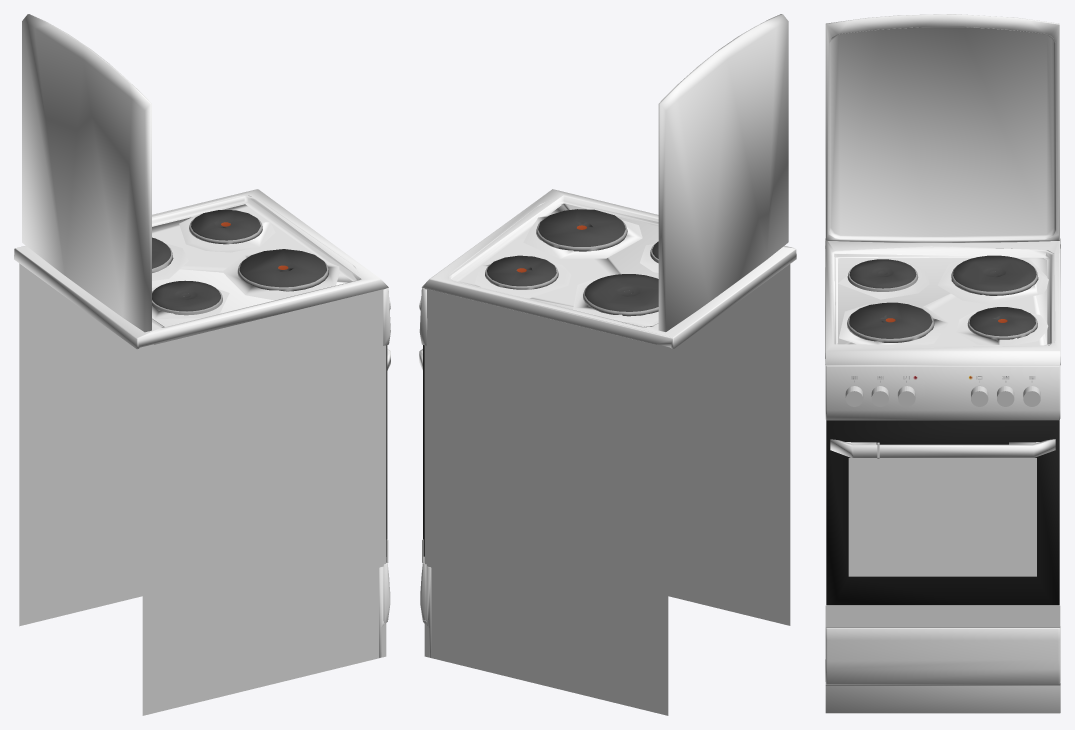
File: Hansa Integra FCEW 54120.FBX
3 renders of one model, left to right at view 1: azimuth 30°, elevation 25°; view 2: azimuth 150°, elevation 25°; view 3: azimuth 270°, elevation 25°, orthographic. The views are drawn at different scales.
Visible parts, largest first — view 1: Плоскость.001, Плоскость, Box039, Box019, Cone001, Cone009, Cone003; view 2: Плоскость, Плоскость.001, Box039, Box019, Cone010, Cone001, Cone003; view 3: Box039, Object007, Box019, Box026, Box025, Line054, Box028, Box037, Cone010, Cone001, Цилиндр, Cone009 (+2 smaller).
Part boxes in pixels (left/top/right/bottom): Плоскость.001: left=142, top=288, right=386, bottom=715; Плоскость: left=19, top=263, right=142, bottom=626; Box039: left=22, top=14, right=151, bottom=332; Box019: left=14, top=189, right=388, bottom=349; Cone001: left=239, top=249, right=326, bottom=287; Cone009: left=152, top=280, right=220, bottom=311; Cone003: left=191, top=210, right=260, bottom=240; Плоскость: left=424, top=288, right=668, bottom=715; Плоскость.001: left=668, top=264, right=790, bottom=625; Box039: left=658, top=14, right=788, bottom=331; Box019: left=421, top=189, right=796, bottom=348; Cone010: left=583, top=274, right=658, bottom=316; Cone001: left=538, top=209, right=625, bottom=246; Cone003: left=487, top=255, right=556, bottom=286; Box039: left=825, top=14, right=1059, bottom=242; Object007: left=826, top=420, right=1059, bottom=605; Box019: left=825, top=238, right=1060, bottom=365; Box026: left=825, top=628, right=1060, bottom=684; Box025: left=825, top=365, right=1060, bottom=420; Line054: left=825, top=626, right=1060, bottom=713; Box028: left=825, top=605, right=1060, bottom=627; Box037: left=830, top=439, right=1055, bottom=457; Cone010: left=951, top=255, right=1038, bottom=295; Cone001: left=849, top=302, right=932, bottom=338; Цилиндр: left=845, top=386, right=1040, bottom=406; Cone009: left=849, top=259, right=916, bottom=288.
Bounding box in the file's own units: 63.3 × 139 × 50.21.
